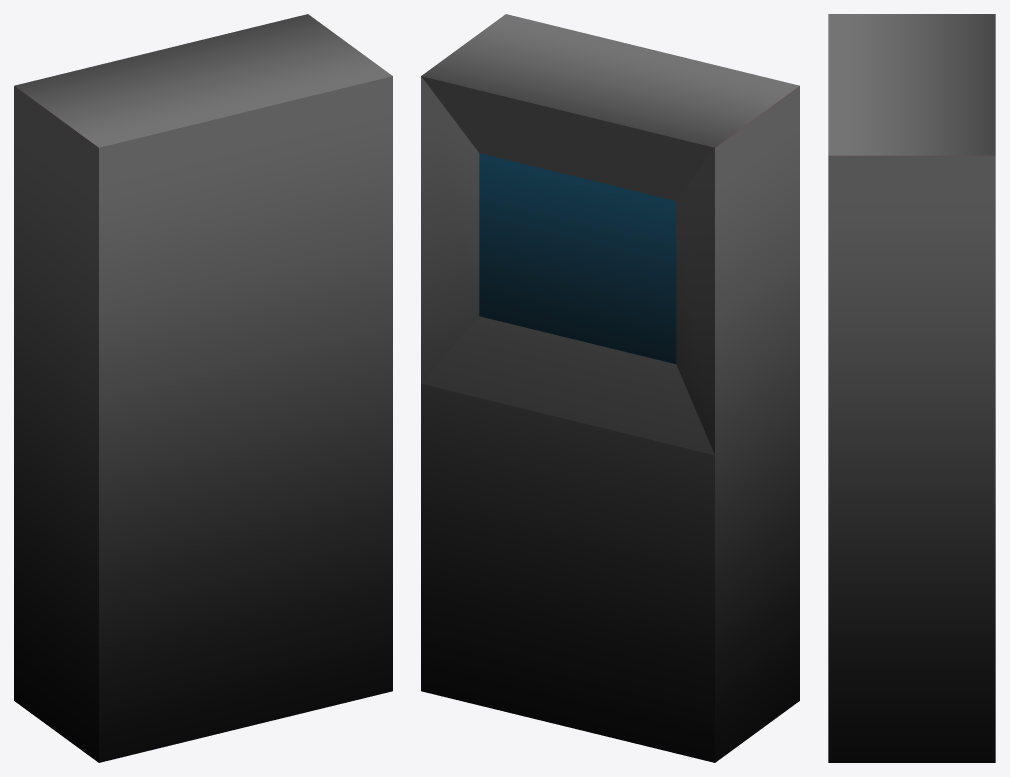
Rendered from BorneTV.glb.
3 renders of one model, left to right at view 1: azimuth 30°, elevation 25°; view 2: azimuth 150°, elevation 25°; view 3: azimuth 270°, elevation 25°, orthographic.
Visible parts, largest first — view 1: Cube; view 2: Cube; view 3: Cube.
Boxes of the visible parts, box(x1,y1,x2,y2) form: Cube: box(14, 14, 392, 762); Cube: box(421, 14, 799, 762); Cube: box(828, 14, 995, 762).
Size of the model in its own units: 2 by 4 by 1.
Materials: 1 (1 with a texture image).
